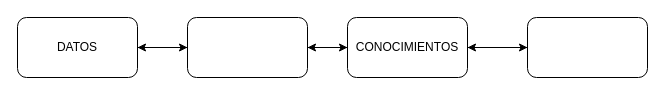
This 665x95 diagram has some shape labels left out. The centre of each missing label's shape, as x and y in pixels:
"ACCIONES" goes at (587,47).
"INFORMACION" goes at (247,47).
